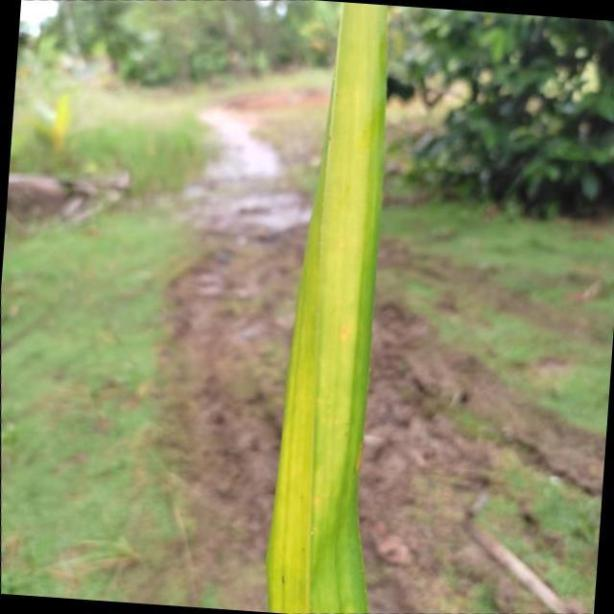nitrogen: (270, 0, 386, 614)
